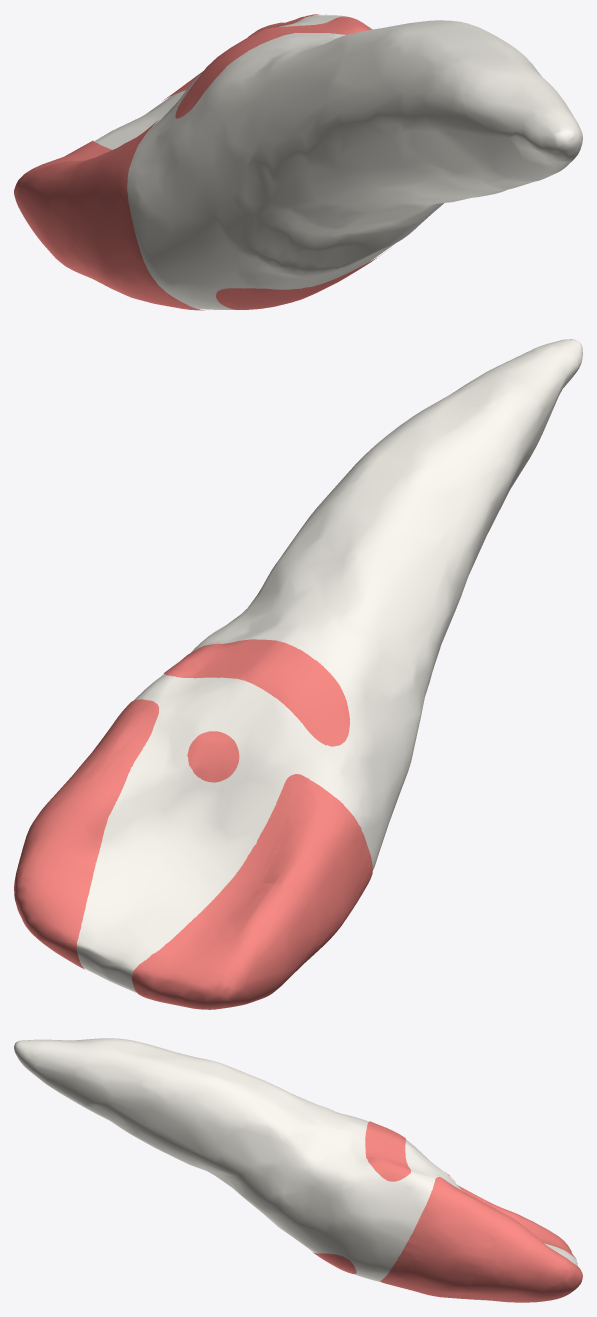
Rendered from tooth_21_FMA55682.glb.
The picture shows the model from 3 angles, top to bottom: view 1: azimuth 30°, elevation 25°; view 2: azimuth 150°, elevation 25°; view 3: azimuth 270°, elevation 25°; orthographic projection. The views are drawn at different scales.
Parts seen in each view (by area): view 1: tooth_21, class4_mesial, class3_mesial, class5_lingual, class5_facial; view 2: tooth_21, class4_mesial, class4_distal, class5_lingual, class3_mesial, class1_lingual_pit, class3_distal; view 3: tooth_21, class4_distal, class3_distal, class5_lingual, class4_mesial, class5_facial.
Part boxes in pixels (<box>): tooth_21: <box>94,15,582,309</box>; class4_mesial: <box>14,120,204,310</box>; class3_mesial: <box>67,128,196,310</box>; class5_lingual: <box>175,16,372,118</box>; class5_facial: <box>216,254,381,309</box>; tooth_21: <box>76,339,582,993</box>; class4_mesial: <box>132,774,372,1009</box>; class4_distal: <box>14,699,158,969</box>; class5_lingual: <box>163,639,349,746</box>; class3_mesial: <box>259,788,369,952</box>; class1_lingual_pit: <box>187,731,239,782</box>; class3_distal: <box>63,705,145,785</box>; tooth_21: <box>14,1038,577,1300</box>; class4_distal: <box>380,1177,582,1302</box>; class3_distal: <box>388,1182,502,1295</box>; class5_lingual: <box>365,1121,410,1181</box>; class4_mesial: <box>458,1186,576,1259</box>; class5_facial: <box>312,1252,356,1273</box>.
Bounding box in the file's own units: 8.45 × 12.22 × 24.99.
